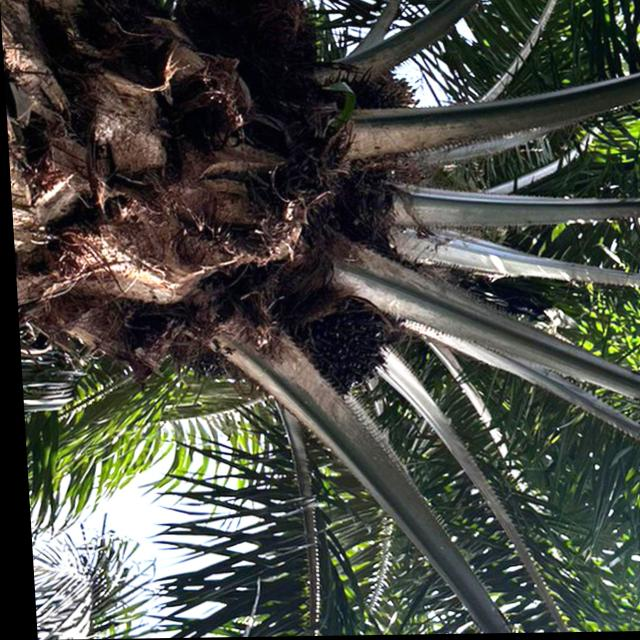unripe: (288, 297, 400, 398)
